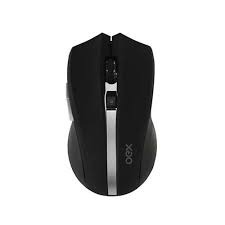mouse: (57, 31, 163, 197)
